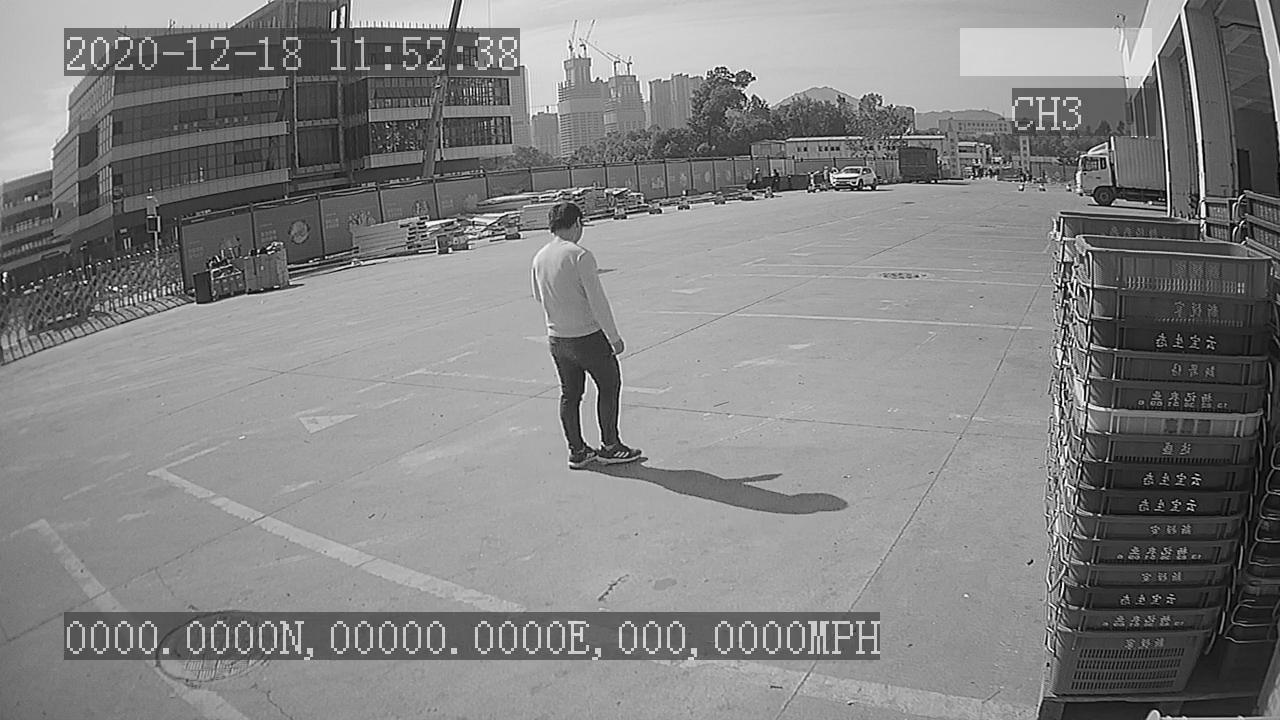person: (524, 195, 647, 474)
